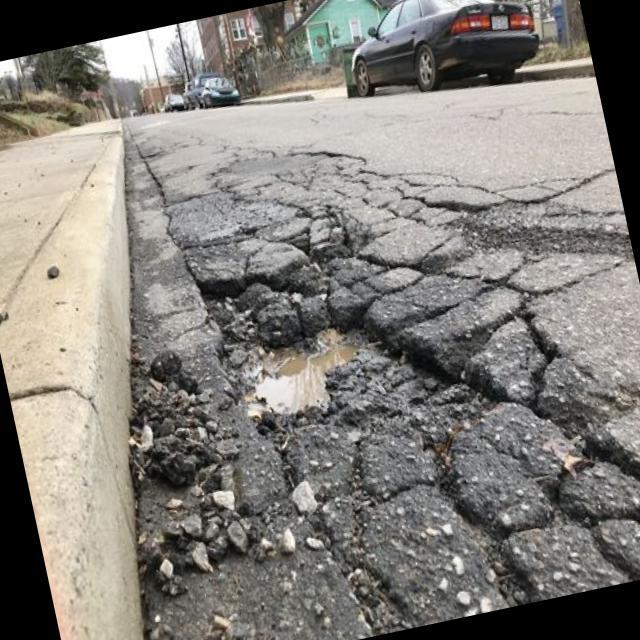Pothole: (187, 222, 455, 493)
